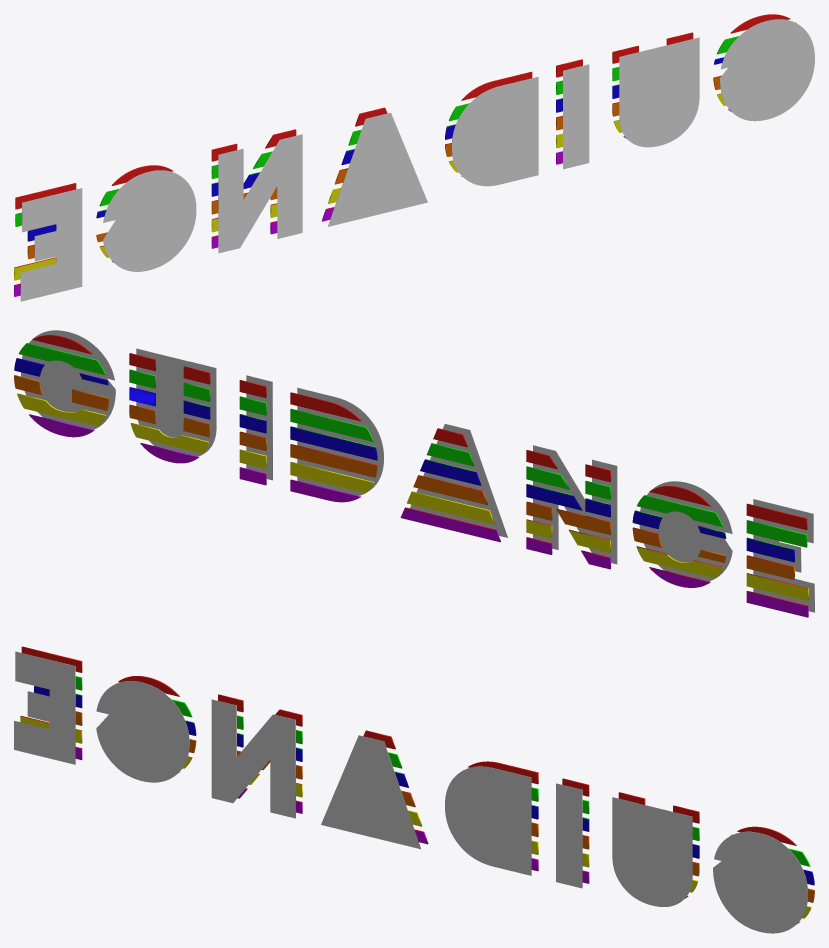
Rendered from Guidance_Title.fbx.
3 renders of one model, top to bottom at view 1: azimuth 30°, elevation 25°; view 2: azimuth 150°, elevation 25°; view 3: azimuth 330°, elevation 25°, orthographic.
Visible parts, largest first — view 1: GUIDANCE.001, GUIDANCE; view 2: GUIDANCE, GUIDANCE.001; view 3: GUIDANCE.001, GUIDANCE.
Boxes of the visible parts, x1=… form: GUIDANCE.001: x1=20, y1=19, x2=814, y2=301; GUIDANCE: x1=14, y1=14, x2=795, y2=296; GUIDANCE: x1=14, y1=335, x2=808, y2=617; GUIDANCE.001: x1=21, y1=330, x2=814, y2=612; GUIDANCE.001: x1=14, y1=651, x2=807, y2=933; GUIDANCE: x1=20, y1=646, x2=814, y2=923.
Size of the model in its own units: 505 by 59.96 by 7.72.
